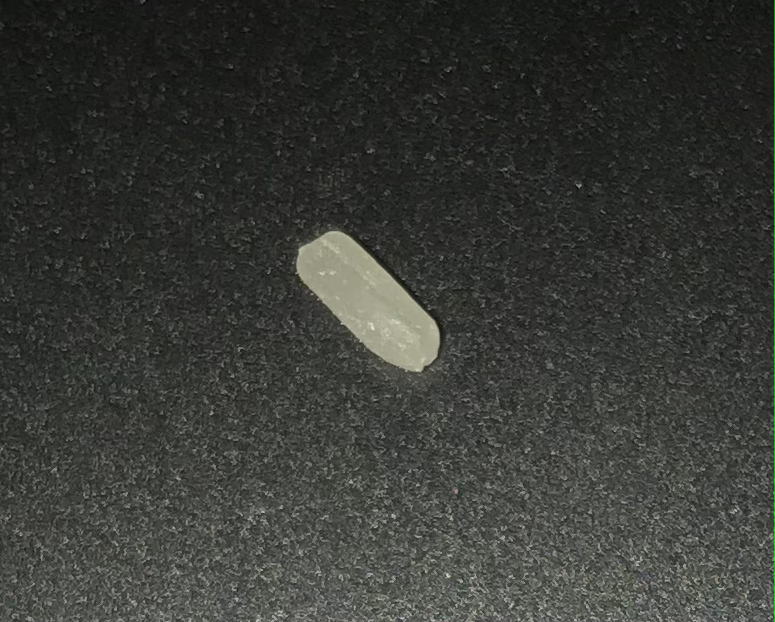Gao Tam Thom: (280, 211, 455, 379)
